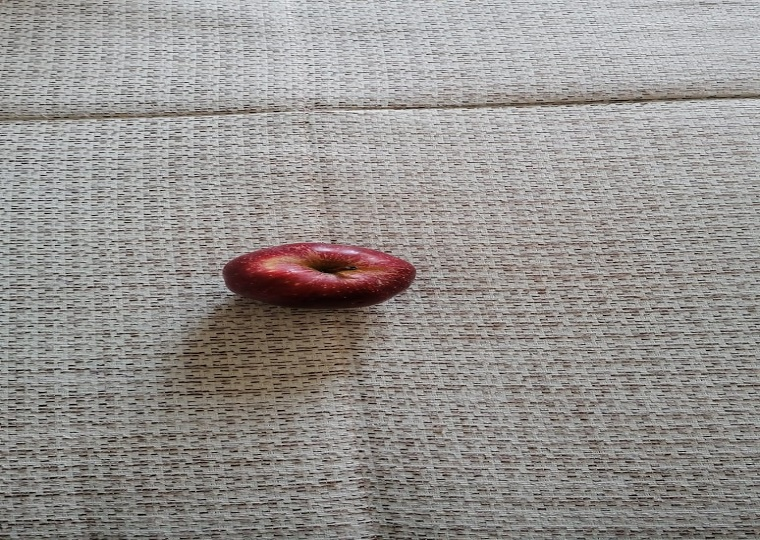elma: (222, 242, 418, 310)
